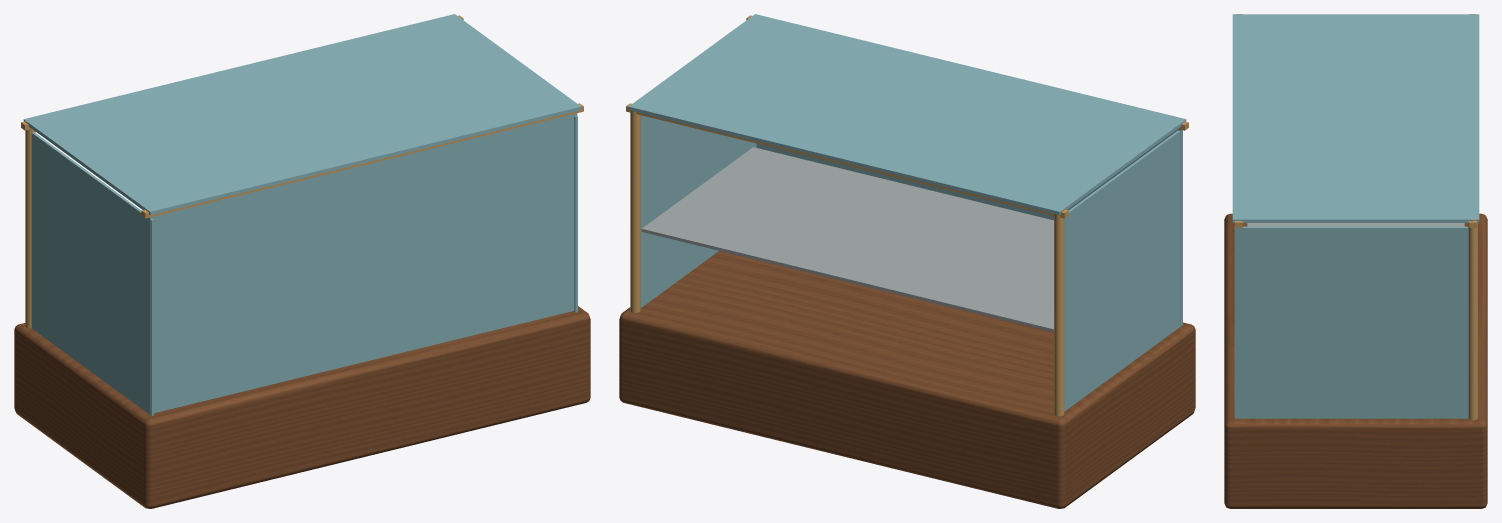
File: patisserie-case-1bb4a62a81bf.glb
3 views of the same model, side by side, from view 1: azimuth 30°, elevation 25°; view 2: azimuth 150°, elevation 25°; view 3: azimuth 270°, elevation 25° (orthographic). The views are drawn at different scales.
Parts seen in each view (by area): view 1: surface_Optical_smoke, surface_walnut, surface_brass; view 2: surface_Optical_smoke, surface_walnut, surface_steel, surface_brass; view 3: surface_Optical_smoke, surface_walnut, surface_brass, surface_steel.
Boxes of the visible parts, box(x1,y1,x2,y2) form: surface_Optical_smoke: box(23, 14, 581, 415); surface_walnut: box(14, 306, 590, 508); surface_brass: box(21, 15, 583, 328); surface_Optical_smoke: box(628, 14, 1186, 411); surface_walnut: box(619, 251, 1195, 508); surface_steel: box(641, 147, 1053, 332); surface_brass: box(626, 15, 1188, 416); surface_Optical_smoke: box(1232, 14, 1479, 418); surface_walnut: box(1224, 213, 1487, 508); surface_brass: box(1235, 14, 1477, 420); surface_steel: box(1247, 223, 1464, 226).
Size of the model in its own units: 1.2 by 0.7605 by 0.63.
Materials: 4 (1 with a texture image).
